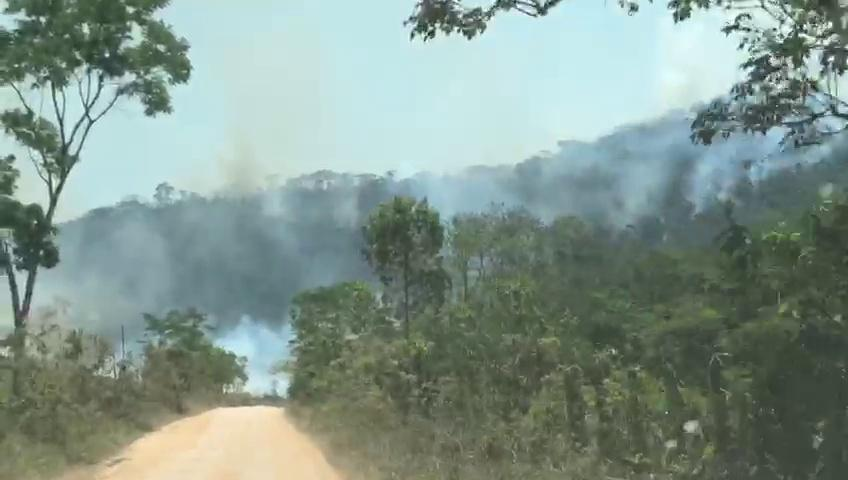smoke: (38, 276, 144, 320), (229, 326, 289, 398), (424, 168, 499, 209)
